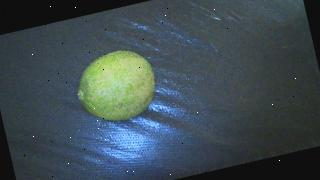DESECHO: (71, 44, 163, 128)
